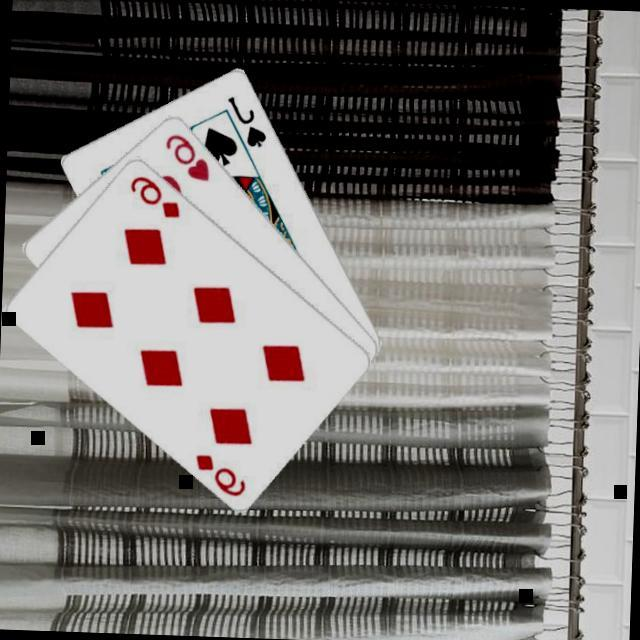6D: (191, 451, 251, 501), (126, 174, 184, 222)
6H: (161, 131, 214, 186)
JS: (224, 94, 272, 152)
